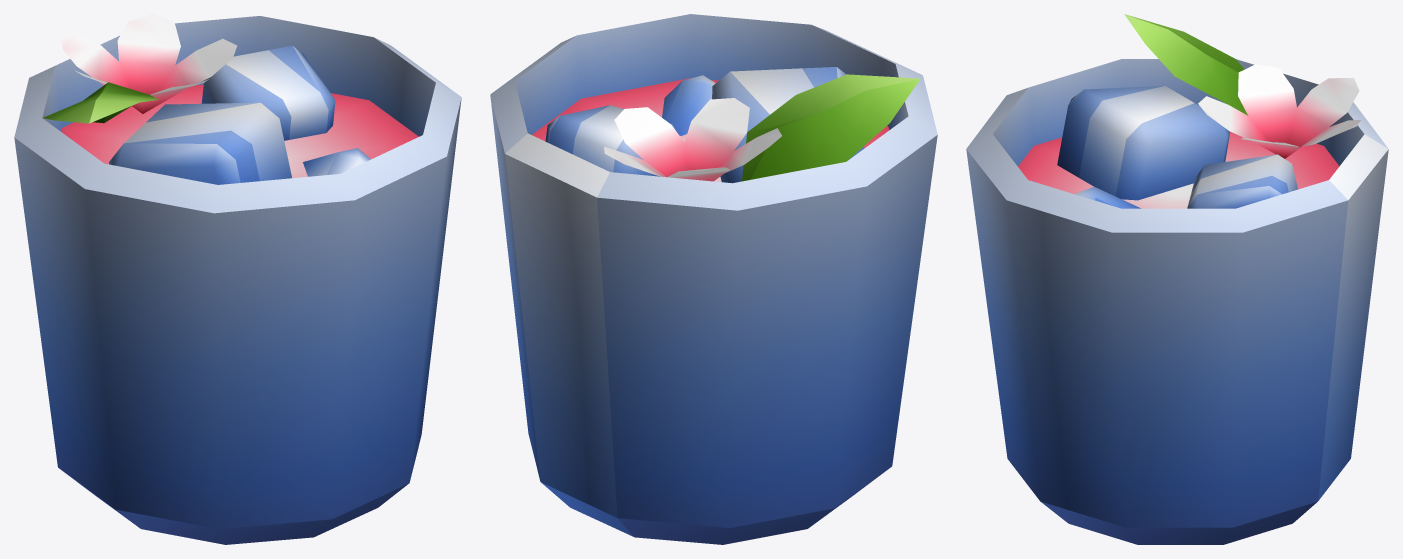
Rendered from m_SakuraCherryBlossomCocktail01.fbx.
3 renders of one model, left to right at view 1: azimuth 30°, elevation 25°; view 2: azimuth 150°, elevation 25°; view 3: azimuth 270°, elevation 25°, orthographic. The views are drawn at different scales.
Parts seen in each view (by area): view 1: m_SakuraCherryBlossomCocktail01; view 2: m_SakuraCherryBlossomCocktail01; view 3: m_SakuraCherryBlossomCocktail01.
Part boxes in pixels (x1,y1,x2,y2): m_SakuraCherryBlossomCocktail01: (14,14,461,544); m_SakuraCherryBlossomCocktail01: (490,14,937,544); m_SakuraCherryBlossomCocktail01: (966,14,1388,544).
Size of the model in its own units: 12.35 by 13.32 by 12.98.
